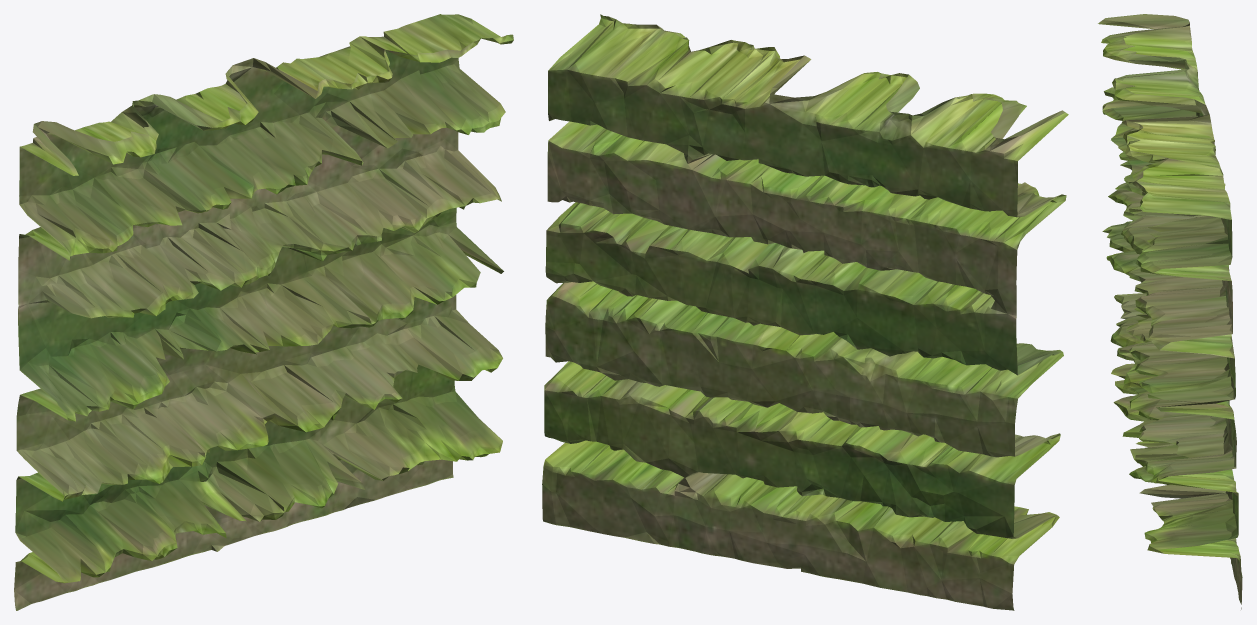
The model's file is map_190_60.obj.
3 renders of one model, left to right at view 1: azimuth 30°, elevation 25°; view 2: azimuth 150°, elevation 25°; view 3: azimuth 270°, elevation 25°, orthographic. The views are drawn at different scales.
Visible parts, largest first — view 1: grp1; view 2: grp1; view 3: grp1.
Part boxes in pixels (x1,y1,x2,y2): grp1: [14, 14, 513, 610]; grp1: [542, 14, 1068, 610]; grp1: [1098, 14, 1242, 609].
Size of the model in its own units: 10 by 10 by 3.23.
Materials: 1 (1 with a texture image).
